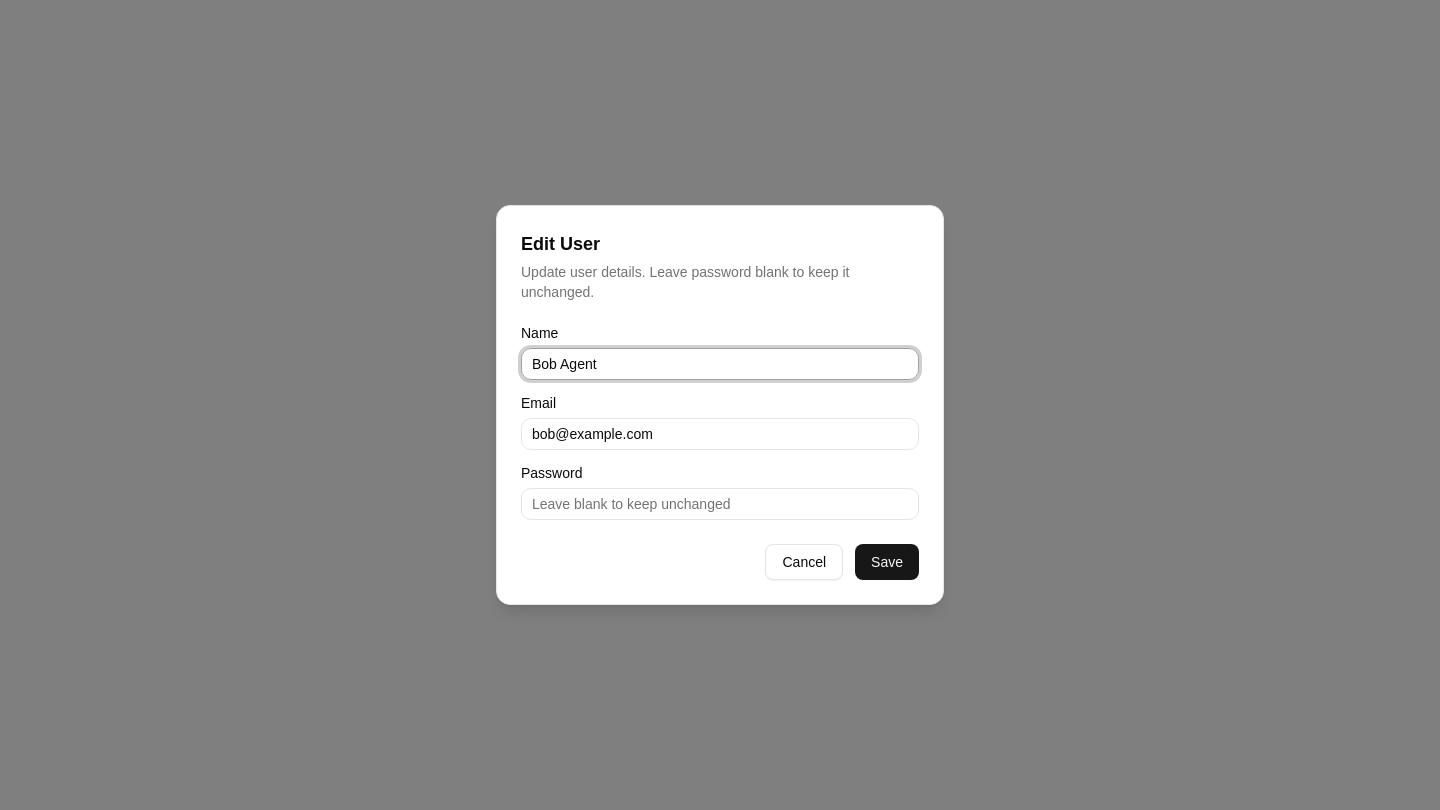
Test: UserFormDialog — edit mode › validation errors › shows error for short password
Type "short" into the password field labelled "Password" at x=720, y=504, box [521,488,919,520]
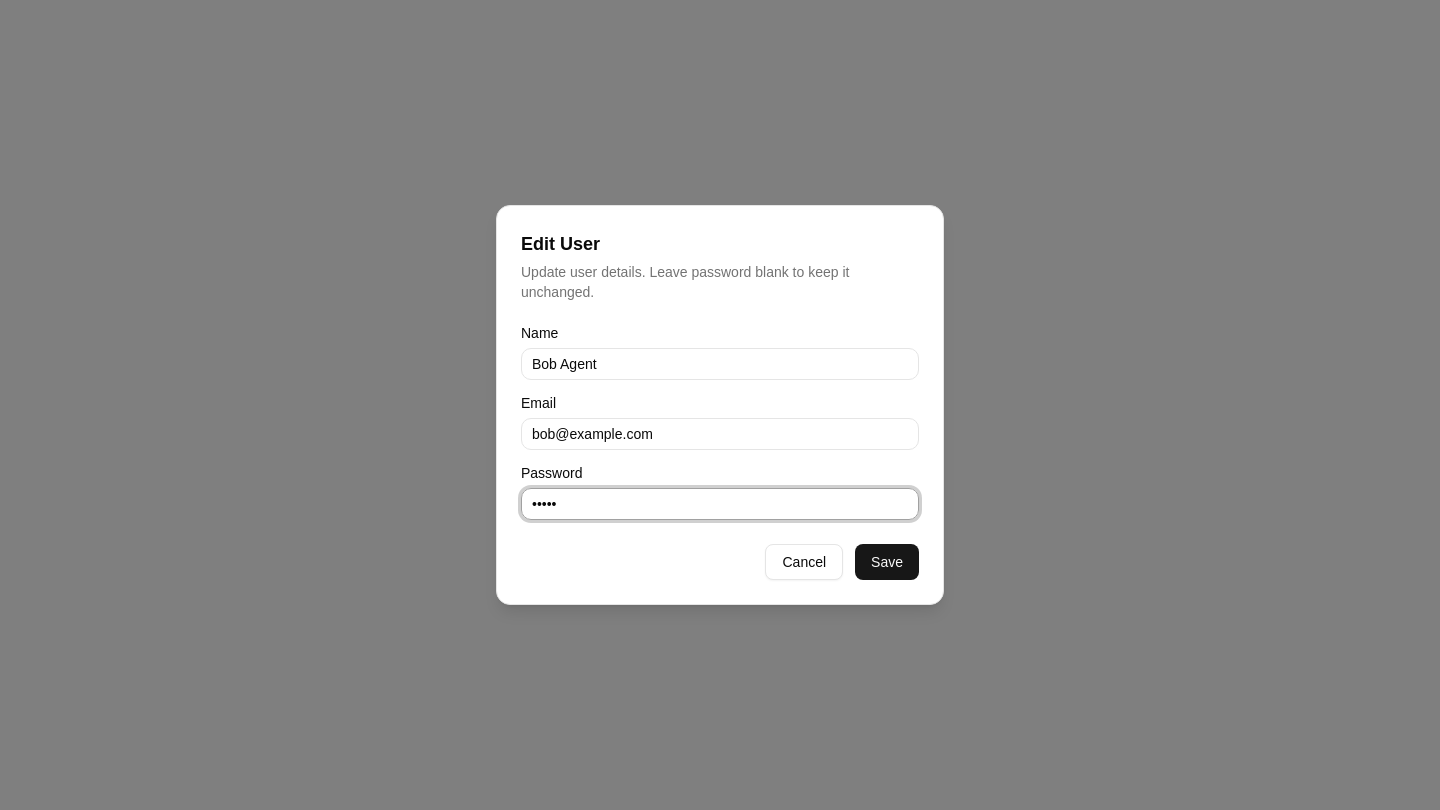
Click the button "Save" at x=887, y=562, box [855,544,919,580]
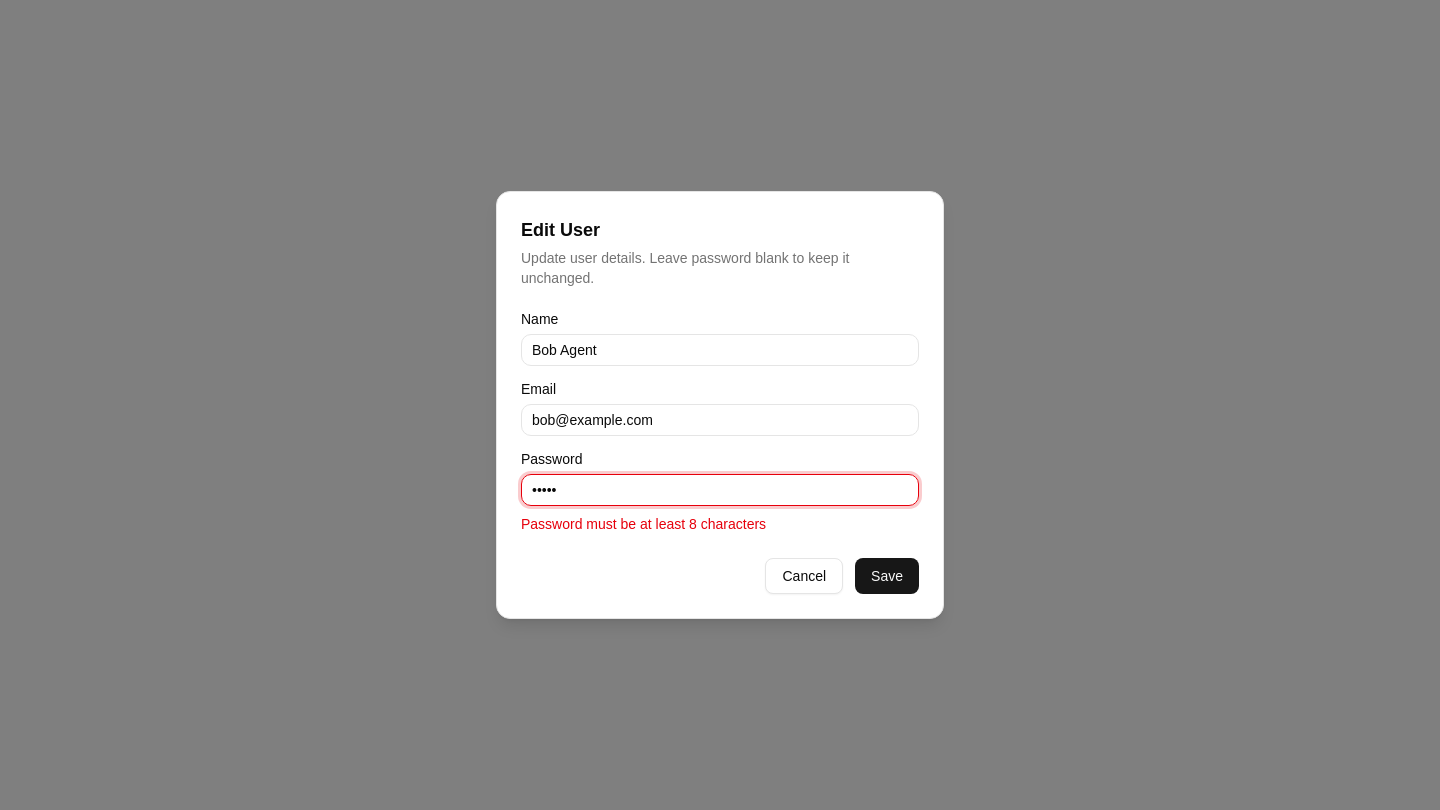
Now the text "Password must be at least 8 characters" is shown, box [521,516,766,532]
